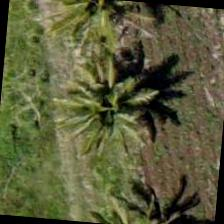Kelapa_Sawit: (60, 55, 158, 152), (53, 0, 148, 55)
